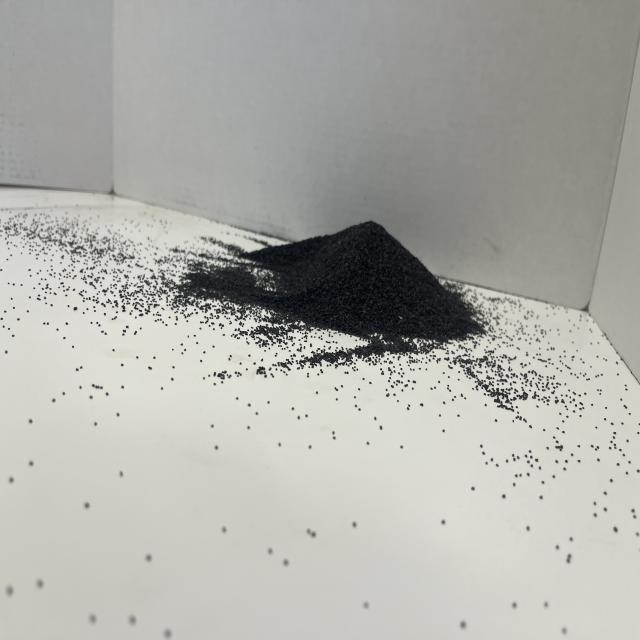Poppy Seeds: (196, 166, 501, 402)
